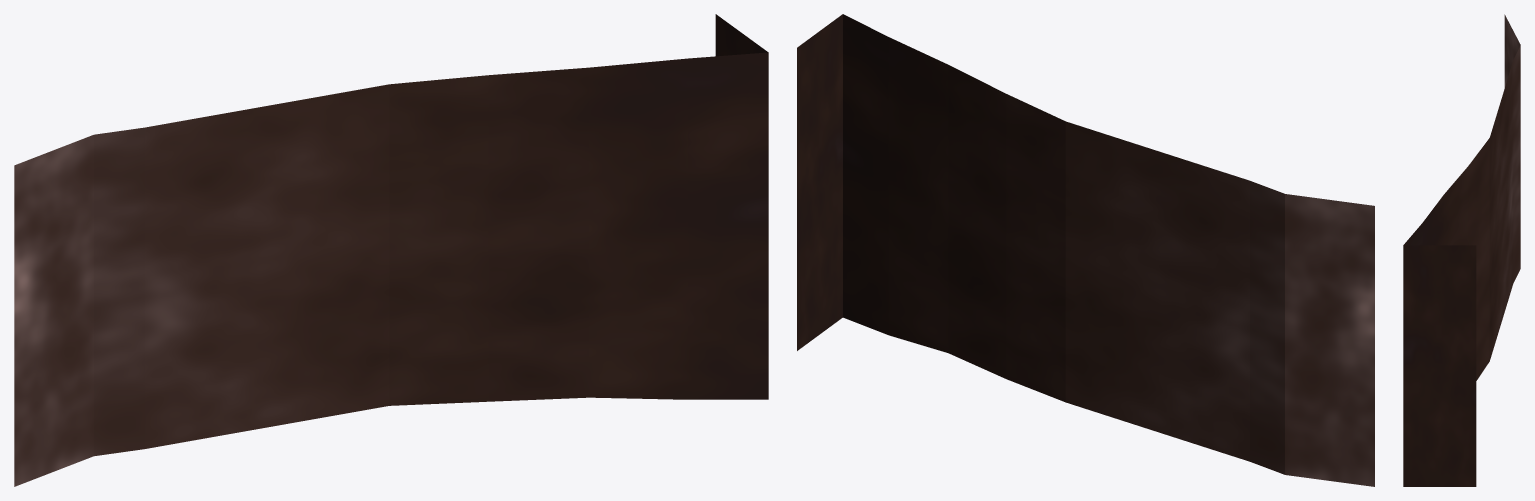
Rendered from Wall05.obj.
3 views of the same model, side by side, from view 1: azimuth 30°, elevation 25°; view 2: azimuth 150°, elevation 25°; view 3: azimuth 270°, elevation 25° (orthographic). The views are drawn at different scales.
Visible parts, largest first — view 1: WallLeft_Plane.010; view 2: WallLeft_Plane.010; view 3: WallLeft_Plane.010.
Boxes of the visible parts, x1,y1,x2,y2 form: WallLeft_Plane.010: (14, 14, 768, 486); WallLeft_Plane.010: (797, 14, 1374, 486); WallLeft_Plane.010: (1403, 14, 1520, 486).
Bounding box in the file's own units: 7.48 × 3.64 × 1.61.
Materials: 1 (1 with a texture image).
